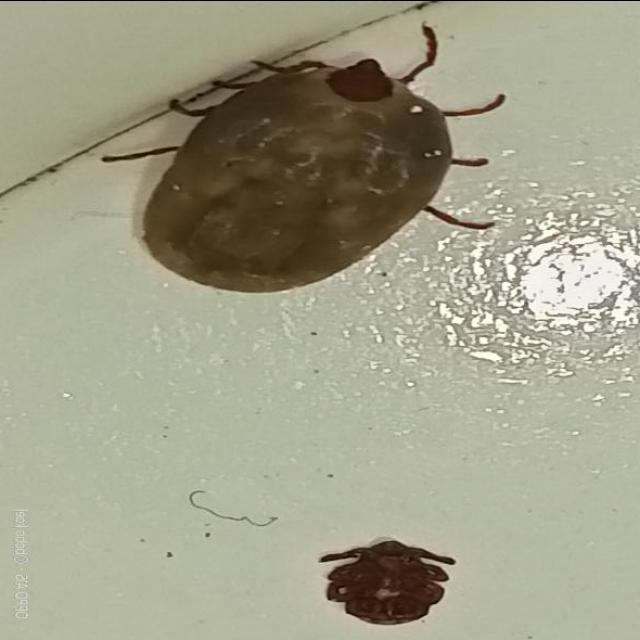Rhipicephalus Sanguineus-F-Fed: (99, 22, 504, 294)
